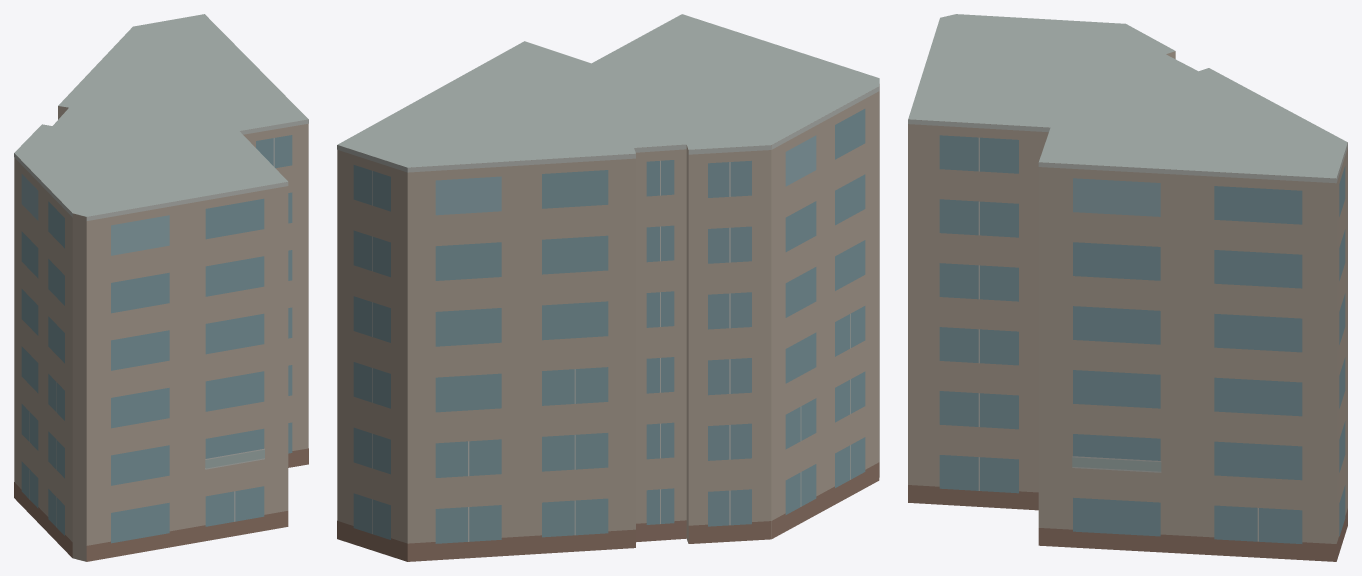
File: survey-upis-32671196.glb
3 renders of one model, left to right at view 1: azimuth 30°, elevation 25°; view 2: azimuth 150°, elevation 25°; view 3: azimuth 270°, elevation 25°, orthographic. The views are drawn at different scales.
Visible parts, largest first — view 1: survey-upis-32671196.tmp; view 2: survey-upis-32671196.tmp; view 3: survey-upis-32671196.tmp.
Part boxes in pixels (x1,y1,x2,y2): survey-upis-32671196.tmp: (14, 14, 308, 561); survey-upis-32671196.tmp: (337, 14, 879, 561); survey-upis-32671196.tmp: (908, 14, 1347, 561).
Bounding box in the file's own units: 18.13 × 19.7 × 20.49.
